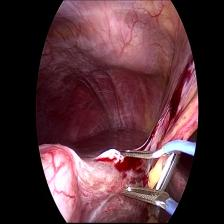Bipolar: (120, 134, 198, 216)
Grasper: (156, 153, 180, 195)
